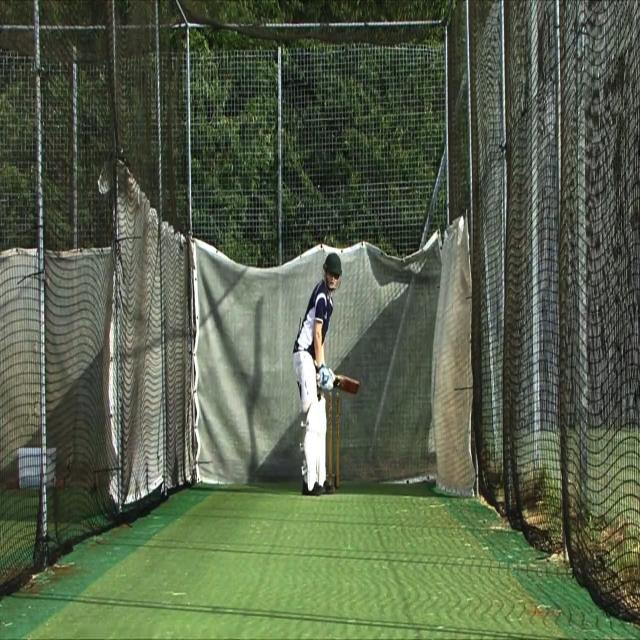batsman: (291, 249, 361, 496)
